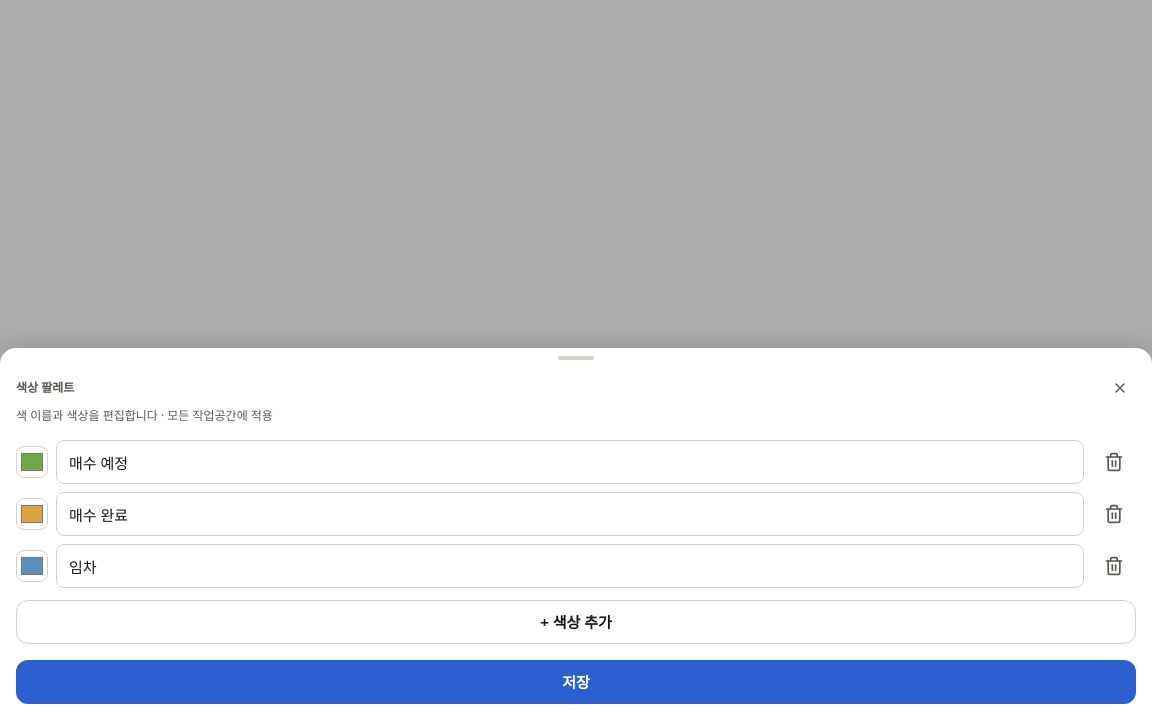
Test: AC-5: 빈 라벨 시 저장 비활성 › 라벨을 모두 지우면 저장이 비활성, 다시 입력하면 활성으로 복귀한다
Clear the 1st field named "색상 이름". click: (570, 462)
box: [56,440,1084,484]
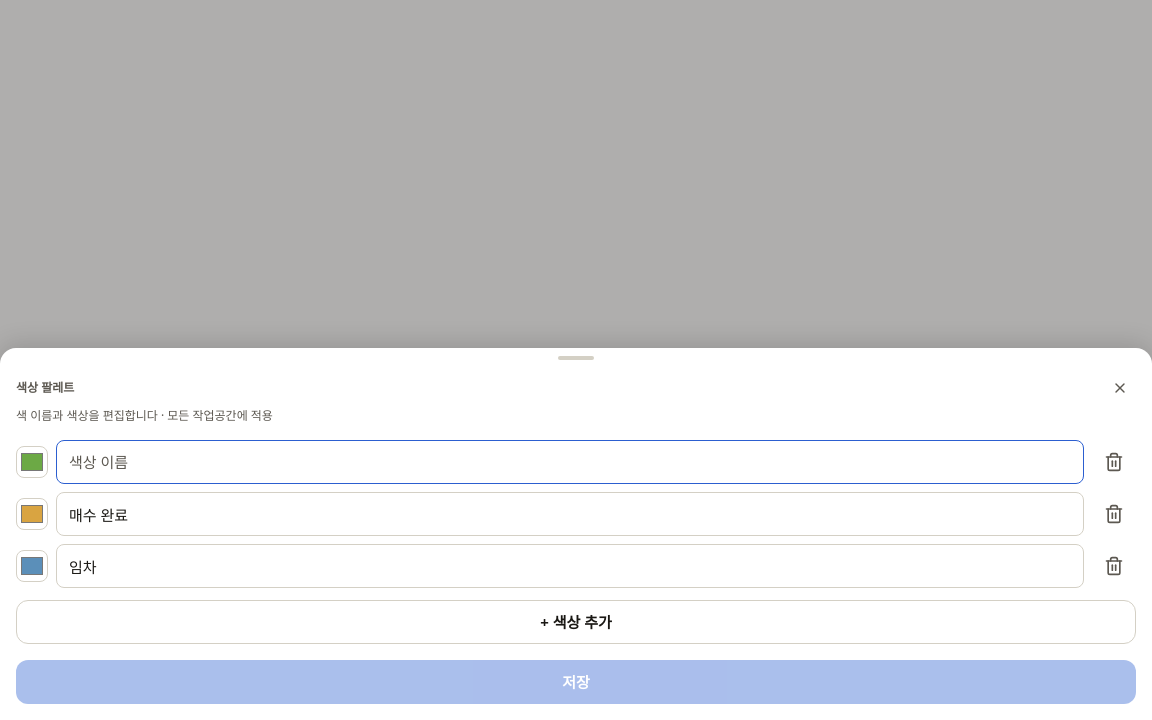
Result: the button "저장" is disabled at [16,660,1136,704]
Type "과수원" into the field labelled "색상 이름". click: (570, 462)
box: [56,440,1084,484]
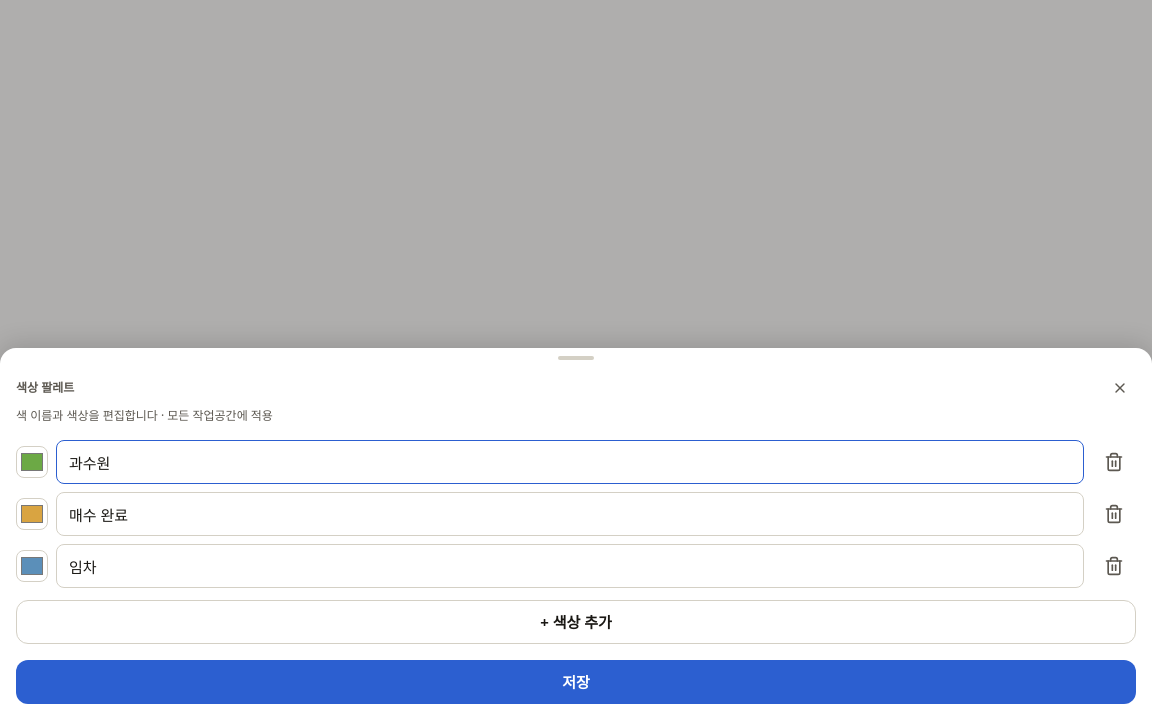
Result: the button "저장" is enabled at [16,660,1136,704]
